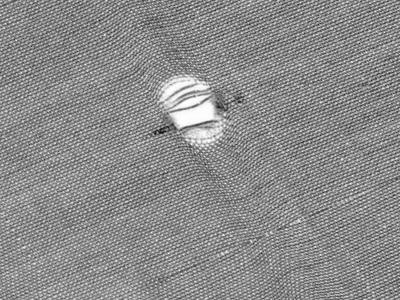hole: (151, 71, 229, 147)
